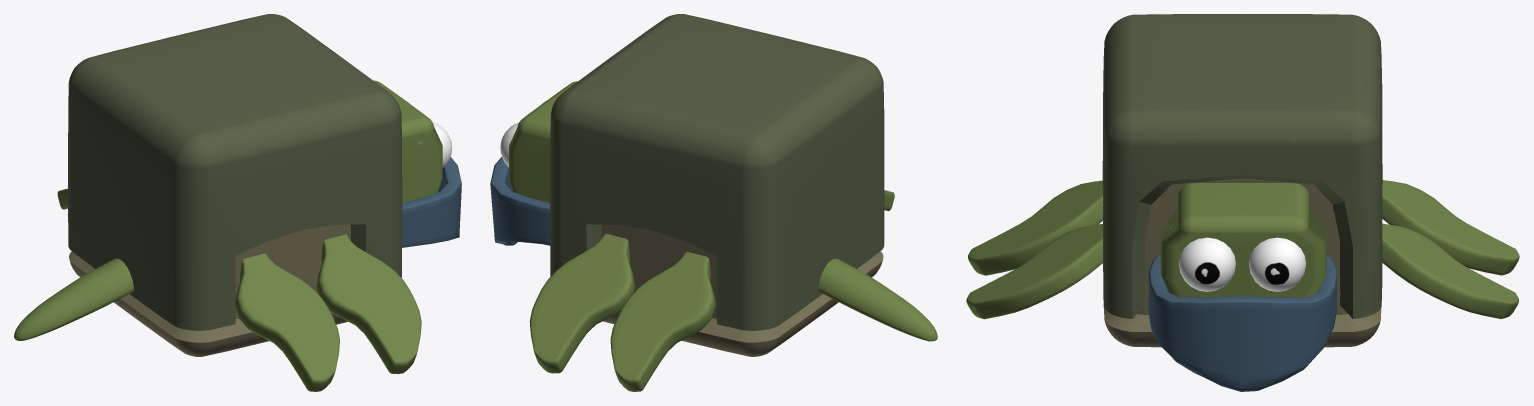
The model's file is turtle.fbx.
3 renders of one model, left to right at view 1: azimuth 30°, elevation 25°; view 2: azimuth 150°, elevation 25°; view 3: azimuth 270°, elevation 25°, orthographic. The views are drawn at different scales.
Parts seen in each view (by area): view 1: turtle2; view 2: turtle2; view 3: turtle2.
Part boxes in pixels (left/top/right/bottom): turtle2: left=14, top=14, right=461, bottom=391; turtle2: left=490, top=14, right=937, bottom=391; turtle2: left=966, top=14, right=1519, bottom=391.
Size of the model in its own units: 188 by 94.32 by 198.
